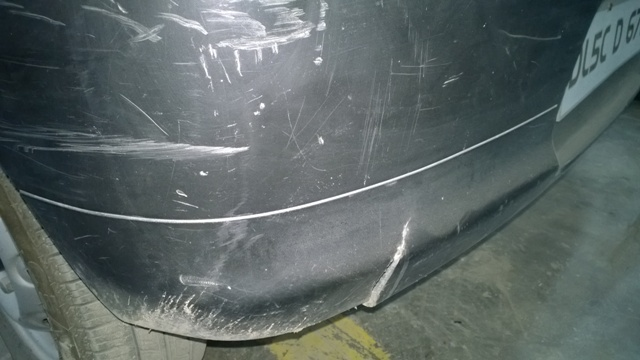Scratch_or_spot: (63, 119, 287, 162), (196, 9, 318, 63)
